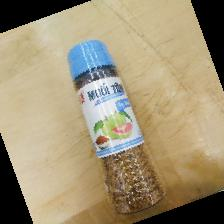TayNinh_blue: (63, 38, 165, 216)
